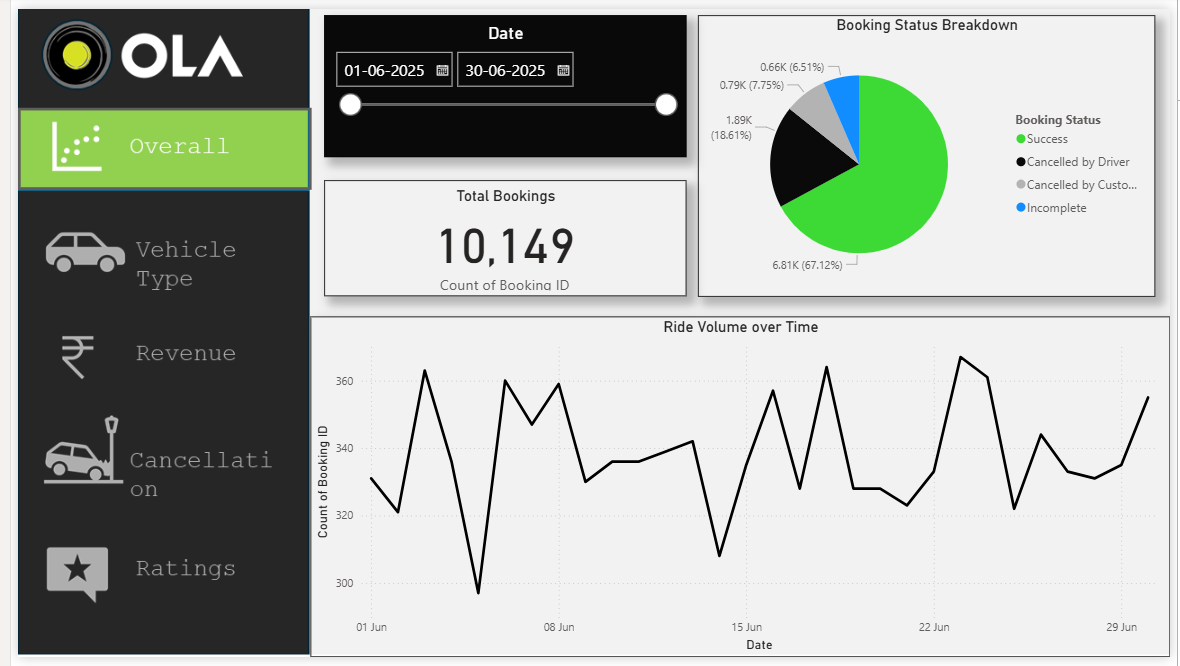

The page's visual inventory and layout, read from the dashboard file:
{"tool":"powerbi","page":{"name":"Overall","canvas":[1280,720],"ordinal":0},"visuals":[{"type":"actionButton","box":[0,229.2,325.7,90.5],"z":0},{"type":"actionButton","box":[0,341.4,325.7,88.1],"z":1000},{"type":"actionButton","box":[0,445.2,325.7,108.6],"z":2000},{"type":"actionButton","box":[0,580.3,325.7,90.5],"z":3000},{"type":"actionButton","box":[0,110,326.2,91.2],"z":4000},{"type":"lineChart","title":"Ride Volume over Time","fields":{"Y":["CountNonNull(ola final.Booking ID)"],"Category":["ola final.Date"]},"box":[325.2,341.7,955.1,378.7],"z":5000},{"type":"pieChart","title":"Booking Status Breakdown","fields":{"Category":["ola final.Booking Status"],"Y":["CountNonNull(ola final.Booking Status)"]},"box":[756.1,6.9,507.7,312.9],"z":6000},{"type":"slicer","title":"Date","fields":{"Values":["ola final.Date"]},"box":[340.3,6.9,402.1,157.8],"z":7000},{"type":"card","title":"Total Bookings","fields":{"Values":["CountNonNull(ola final.Booking ID)"]},"box":[340.3,190.7,402.1,129],"z":8000}]}

Visuals, with their boxes in screenshot pixels (x1, y1, x2, y2), scaled from the page's 1280x720 canvas onto the 1180x666 screenshot:
actionButton: x1=0 y1=212 x2=300 y2=296
actionButton: x1=0 y1=316 x2=300 y2=397
actionButton: x1=0 y1=412 x2=300 y2=512
actionButton: x1=0 y1=537 x2=300 y2=620
actionButton: x1=0 y1=102 x2=301 y2=186
"Ride Volume over Time" lineChart: x1=300 y1=316 x2=1179 y2=665
"Booking Status Breakdown" pieChart: x1=697 y1=6 x2=1165 y2=296
"Date" slicer: x1=314 y1=6 x2=684 y2=152
"Total Bookings" card: x1=314 y1=176 x2=684 y2=296
